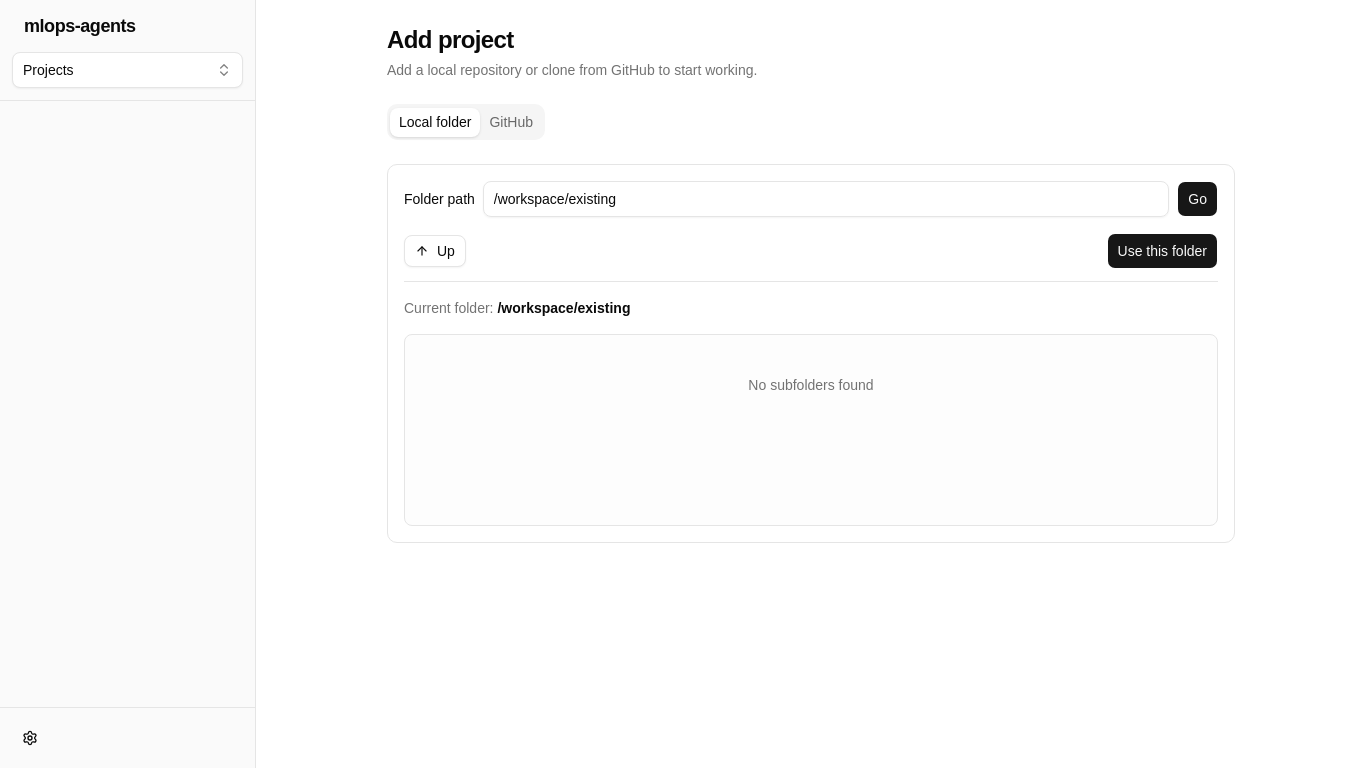
Scenario: AddProjectPage › project_exists links to the existing project
This screenshot has width=1366, height=768.
Click the button "Use this folder" at (1162, 251), box [1106,233,1218,269]
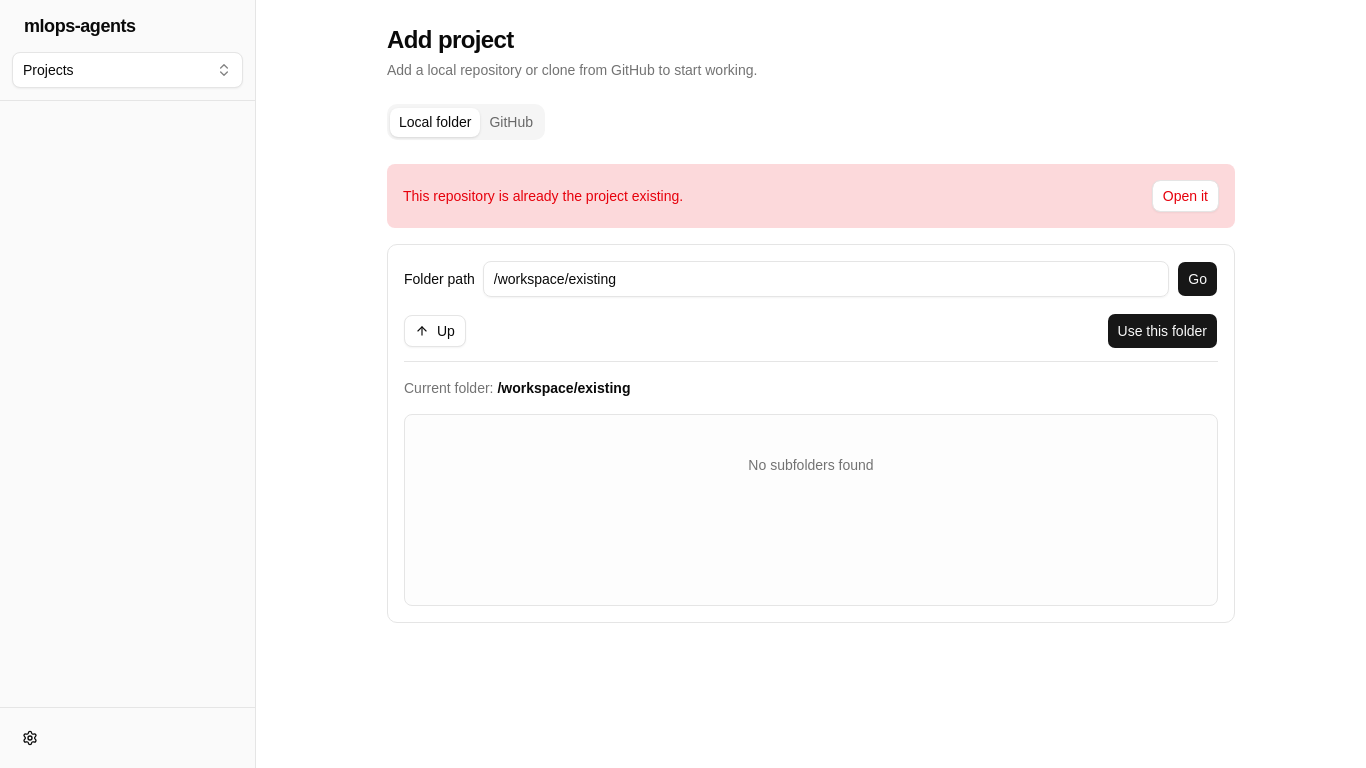
Result: the text "This repository is already the project existing." is shown at [403,186,683,206]
